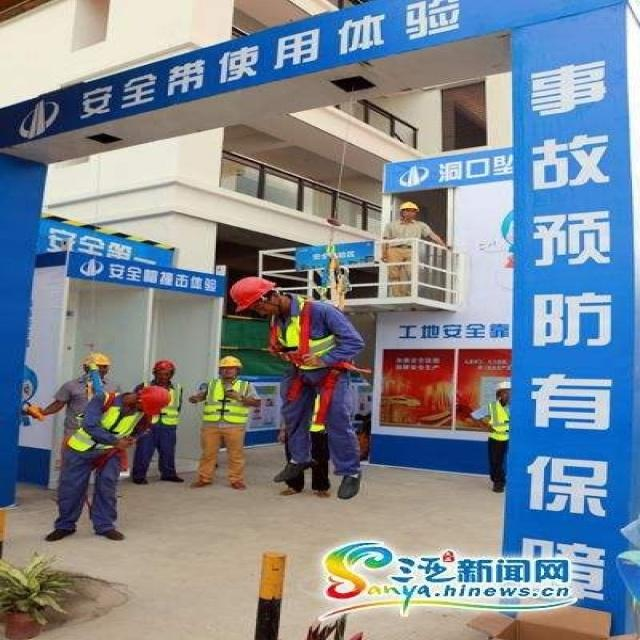helmet: (222, 367, 283, 429), (128, 512, 173, 561), (211, 472, 246, 507), (76, 469, 110, 503), (147, 477, 177, 515), (395, 265, 422, 296), (492, 505, 513, 540)
vest: (270, 424, 346, 505), (80, 530, 136, 606), (206, 505, 252, 575), (484, 538, 513, 594)
